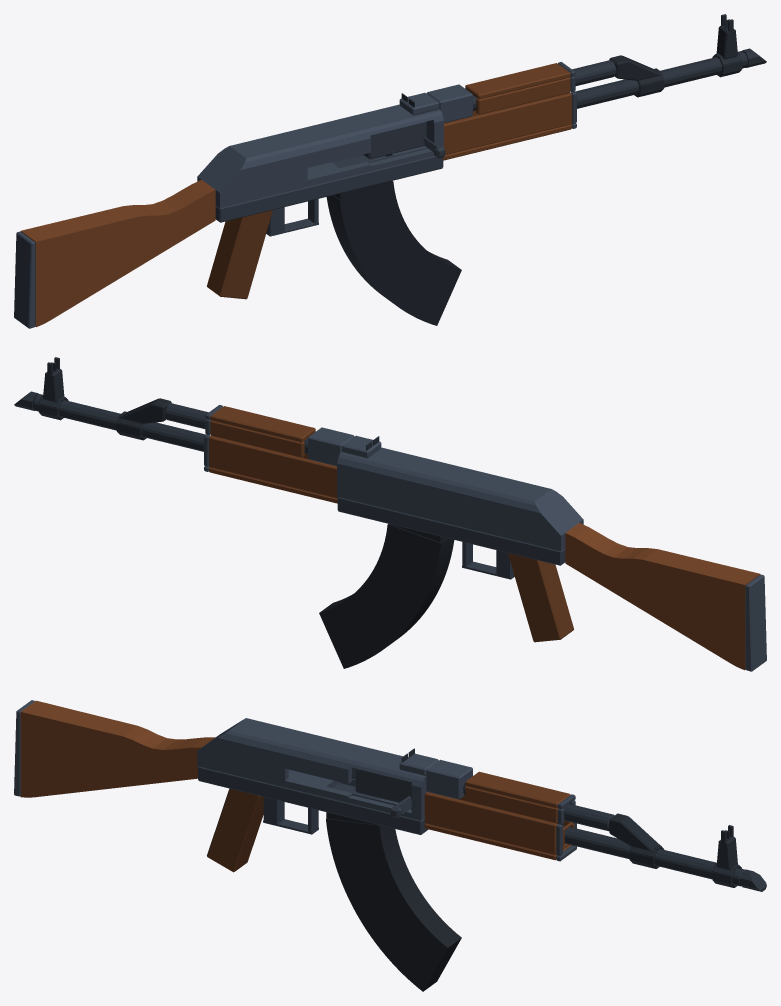
Rendered from rifle_ak.glb.
3 renders of one model, top to bottom at view 1: azimuth 30°, elevation 25°; view 2: azimuth 150°, elevation 25°; view 3: azimuth 330°, elevation 25°, orthographic.
Parts seen in each view (by area): view 1: stock:stock, receiver:ak-receiver, magazine:magazine, handguard:handguard, lower:lower, grip:grip, barrel:barrel, bolt-carrier:bolt-carrier, gas-block:gas-block, front-sight:front-sight, gas-cylinder:gas-cylinder; view 2: receiver:ak-receiver, stock:stock, magazine:magazine, handguard:handguard, lower:lower, grip:grip, barrel:barrel, gas-block:gas-block, front-sight:front-sight, gas-cylinder:gas-cylinder; view 3: stock:stock, receiver:ak-receiver, magazine:magazine, handguard:handguard, lower:lower, grip:grip, barrel:barrel, bolt-carrier:bolt-carrier, gas-block:gas-block, front-sight:front-sight, gas-cylinder:gas-cylinder.
Part boxes in pixels (x1,y1,x2,y2): stock:stock: (14, 179, 215, 328); receiver:ak-receiver: (197, 84, 472, 208); magazine:magazine: (326, 181, 461, 325); handguard:handguard: (443, 62, 576, 160); lower:lower: (215, 155, 443, 236); grip:grip: (207, 210, 272, 299); barrel:barrel: (570, 51, 747, 108); bolt-carrier:bolt-carrier: (363, 121, 445, 159); gas-block:gas-block: (609, 55, 664, 97); front-sight:front-sight: (712, 14, 742, 77); gas-cylinder:gas-cylinder: (473, 60, 616, 111); receiver:ak-receiver: (308, 427, 583, 551); stock:stock: (565, 522, 766, 671); magazine:magazine: (319, 524, 454, 668); handguard:handguard: (204, 405, 337, 503); lower:lower: (337, 497, 565, 579); grip:grip: (508, 553, 573, 642); barrel:barrel: (33, 394, 210, 451); gas-block:gas-block: (116, 398, 171, 440); front-sight:front-sight: (38, 357, 68, 420); gas-cylinder:gas-cylinder: (164, 403, 307, 454); stock:stock: (14, 700, 215, 797); receiver:ak-receiver: (197, 718, 472, 820); magazine:magazine: (326, 812, 461, 991); handguard:handguard: (424, 771, 576, 861); lower:lower: (198, 766, 428, 834); grip:grip: (207, 788, 263, 872); barrel:barrel: (558, 824, 745, 886); bolt-carrier:bolt-carrier: (355, 768, 412, 818); gas-block:gas-block: (609, 813, 664, 868); front-sight:front-sight: (712, 825, 741, 887); gas-cylinder:gas-cylinder: (463, 783, 614, 831).
Bounding box in the file's own units: 0.8768 × 0.2606 × 0.0719.
